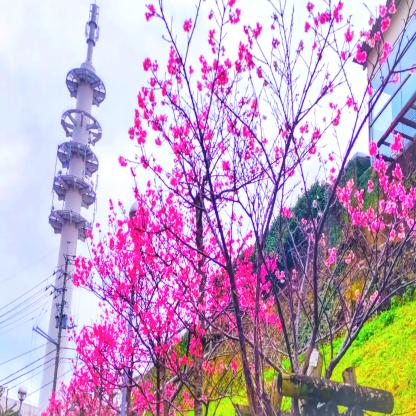KanhiSakura: (143, 0, 416, 416), (122, 37, 258, 416), (70, 209, 180, 416), (61, 311, 127, 416), (39, 369, 107, 416)
